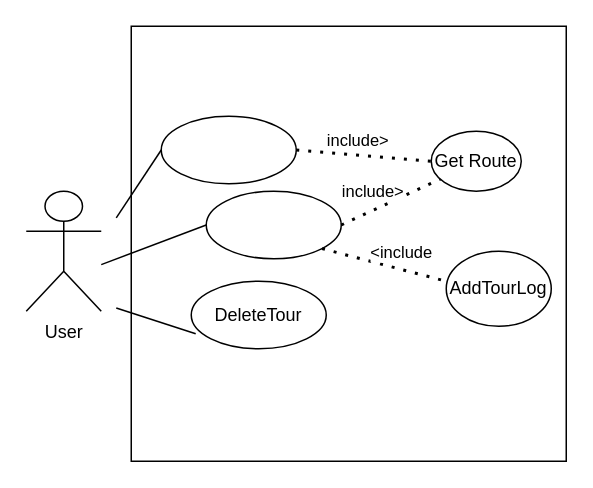
Some shapes in this 593 by 488 pixel diagram are drawn without their labels. Each missing label, with the centre of its shape:
Add Tour: (x=228, y=149)
EditTour: (x=273, y=224)
